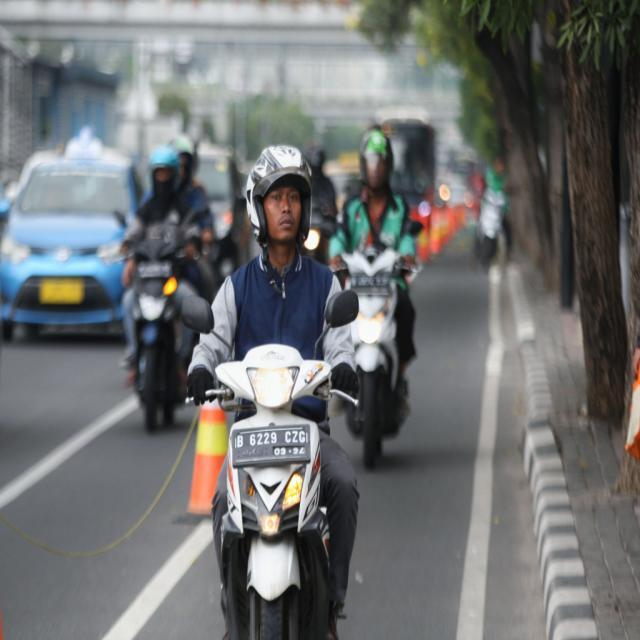Helmet: (246, 145, 310, 244), (359, 126, 392, 183), (148, 145, 178, 194), (172, 134, 197, 179), (148, 145, 178, 173), (305, 145, 325, 172), (172, 134, 194, 155)
Number Plate: (231, 424, 309, 466), (39, 278, 84, 303), (350, 273, 390, 290), (137, 261, 171, 278)
Rearview Mirror: (325, 290, 358, 327), (181, 296, 213, 333), (409, 220, 423, 236), (0, 198, 10, 220)
